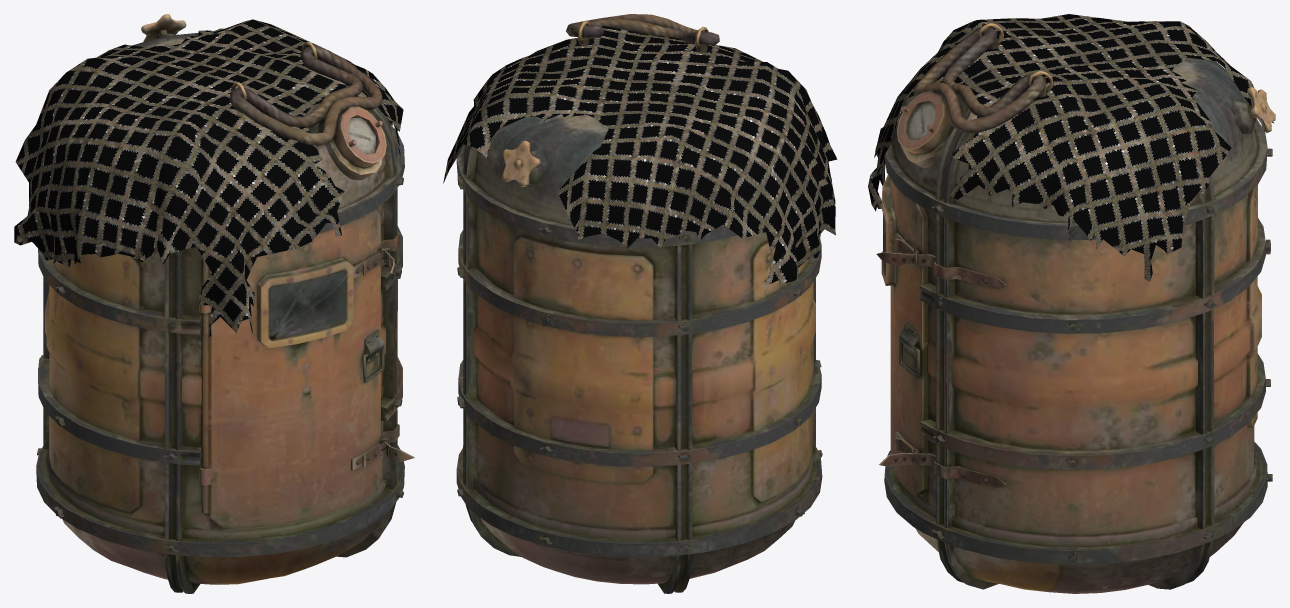
File: abyss_barrel_vertical.glb
3 renders of one model, left to right at view 1: azimuth 30°, elevation 25°; view 2: azimuth 150°, elevation 25°; view 3: azimuth 270°, elevation 25°, orthographic. The views are drawn at different scales.
Visible parts, largest first — view 1: abyss_dlc_storage_vertical_LOD0; view 2: abyss_dlc_storage_vertical_LOD0; view 3: abyss_dlc_storage_vertical_LOD0.
Boxes of the visible parts, x1,y1,x2,y2 form: abyss_dlc_storage_vertical_LOD0: (14, 14, 414, 593); abyss_dlc_storage_vertical_LOD0: (443, 14, 837, 593); abyss_dlc_storage_vertical_LOD0: (868, 14, 1275, 593).
Bounding box in the file's own units: 1.02 × 1.37 × 0.9795.
Materials: 2 (2 with a texture image).
